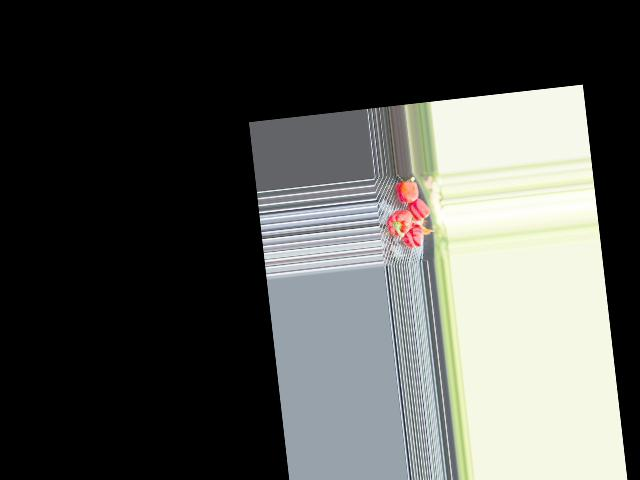bell_pepper: (401, 221, 425, 249)
